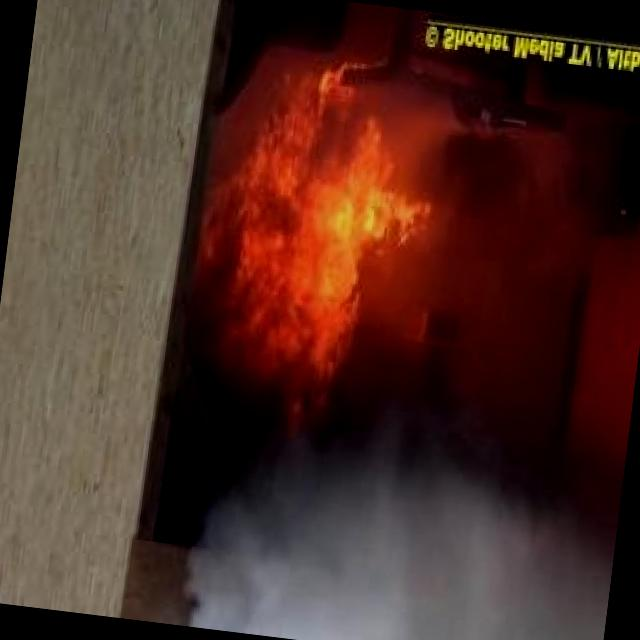fire: (164, 32, 511, 431)
smoke: (161, 411, 624, 640)
